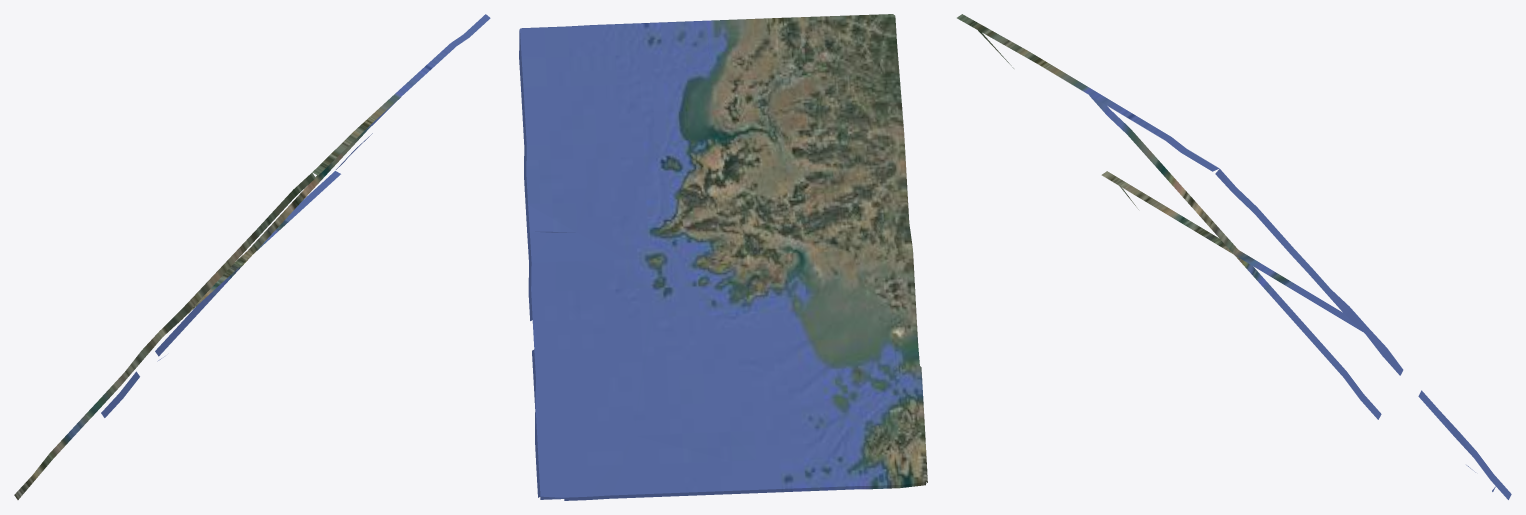
The picture shows the model from 3 angles, left to right: view 1: azimuth 30°, elevation 25°; view 2: azimuth 150°, elevation 25°; view 3: azimuth 270°, elevation 25°; orthographic projection. The views are drawn at different scales.
Size of the model in its own units: 315260 by 251546 by 303247.
Materials: 1 (1 with a texture image).
